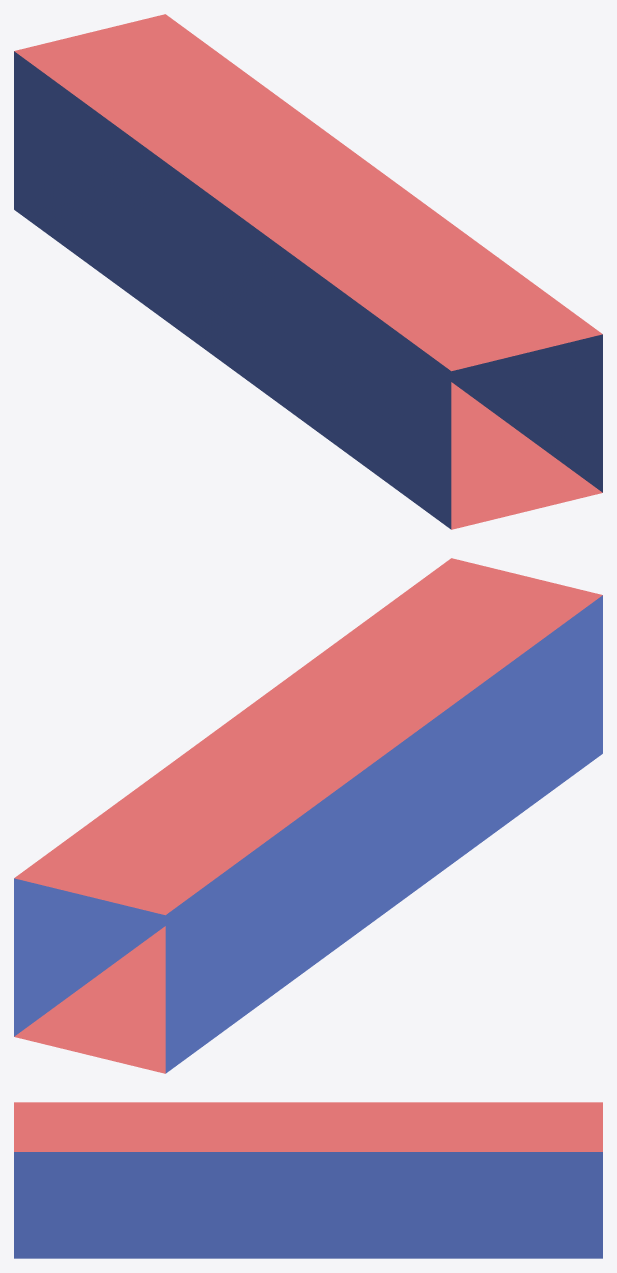
The model's file is rotated.dae.
3 renders of one model, top to bottom at view 1: azimuth 30°, elevation 25°; view 2: azimuth 150°, elevation 25°; view 3: azimuth 270°, elevation 25°, orthographic. The views are drawn at different scales.
Parts seen in each view (by area): view 1: zxo (×6), zxz (×2); view 2: zxo (×6), zxz (×2); view 3: zxo (×4), zxz (×2).
Boxes of the visible parts, bbox=[...] form: zxo (×6): bbox=[14, 14, 602, 529]; zxz (×2): bbox=[189, 142, 427, 401]; zxo (×6): bbox=[14, 558, 602, 1073]; zxz (×2): bbox=[189, 686, 427, 945]; zxo (×4): bbox=[14, 1102, 602, 1258]; zxz (×2): bbox=[249, 1102, 367, 1258].
Size of the model in its own units: 1 by 5 by 1.
